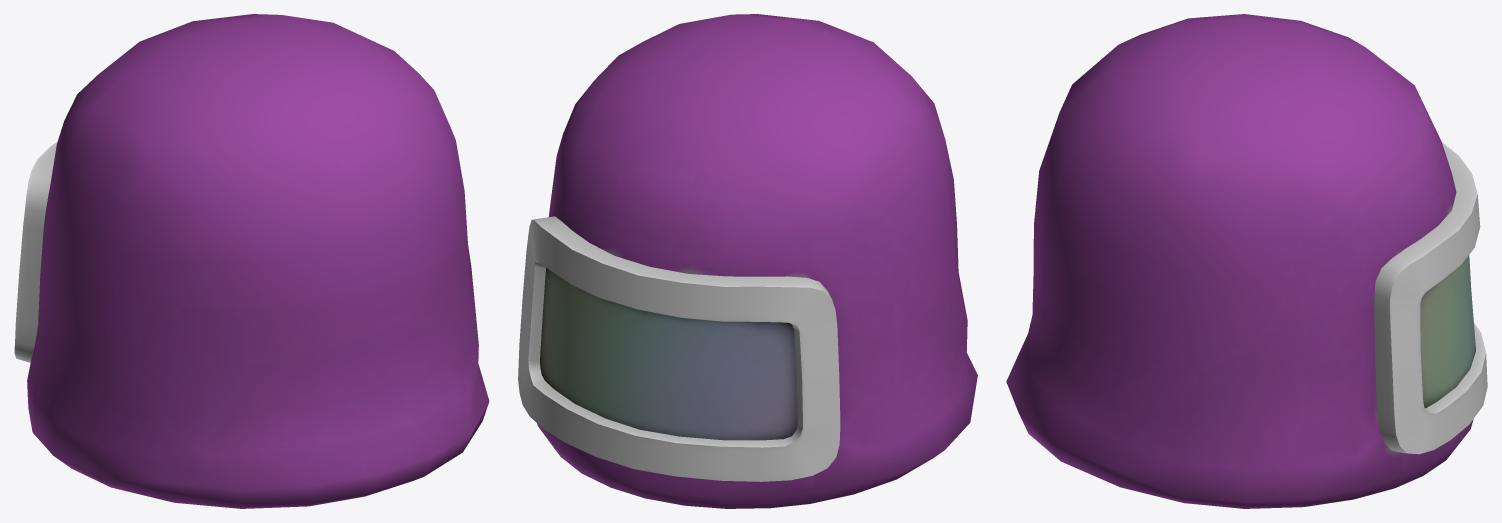
Rendered from IG_Helmat_SpaceProtect.fbx.
The picture shows the model from 3 angles, left to right: view 1: azimuth 30°, elevation 25°; view 2: azimuth 150°, elevation 25°; view 3: azimuth 270°, elevation 25°; orthographic projection. The views are drawn at different scales.
Visible parts, largest first — view 1: JLAB_ProtectiveClothes_Head; view 2: JLAB_ProtectiveClothes_Head; view 3: JLAB_ProtectiveClothes_Head.
Part boxes in pixels (x1,y1,x2,y2): JLAB_ProtectiveClothes_Head: [14, 14, 489, 508]; JLAB_ProtectiveClothes_Head: [518, 14, 977, 508]; JLAB_ProtectiveClothes_Head: [1006, 14, 1487, 508].
Size of the model in its own units: 0.6252 by 0.5793 by 0.6588.
1 material, 1 textured.
